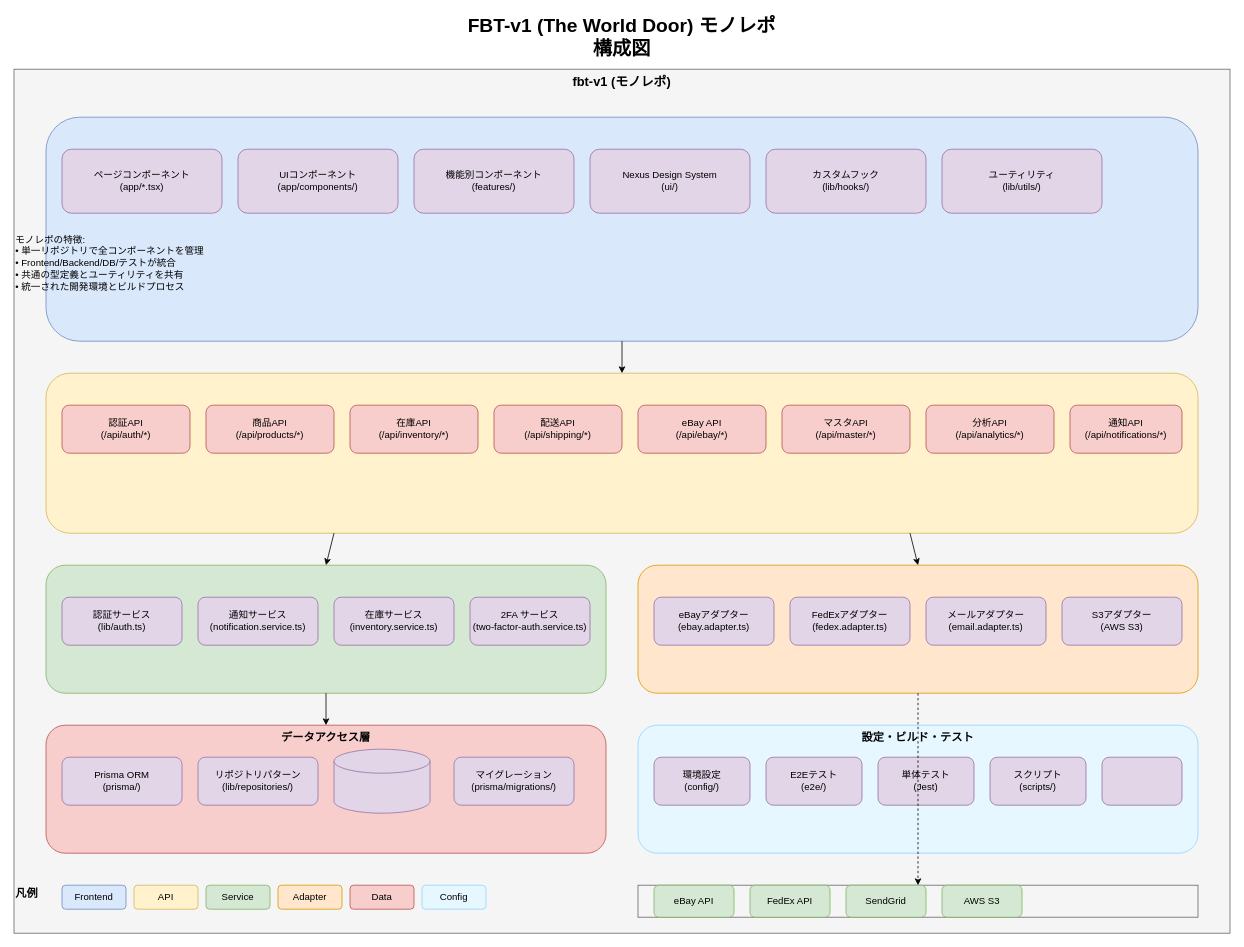
Some shapes in this 1244 by 947 pixel diagram are drawn without their labels. Here are the shapes that lost their labels. From the top down, the box of each, then its label:
(45, 116, 1198, 341): Frontend層 (Next.js 14 App Router)
(45, 372, 1198, 533): API層 (Next.js API Routes)
(45, 564, 606, 693): サービス層
(637, 564, 1198, 693): 外部サービスアダプター
(333, 748, 430, 813): SQLite DB (prisma/dev.db)
(1101, 756, 1182, 805): ドキュメント (docs/)
(637, 884, 1198, 917): 外部サービス
